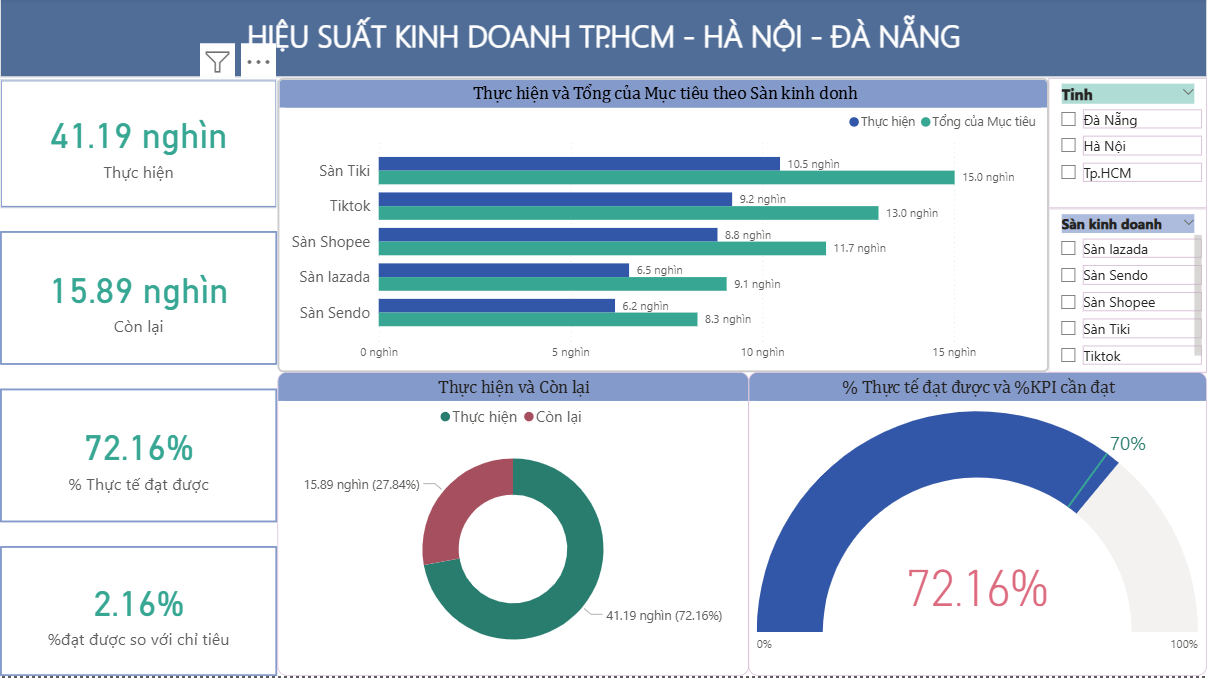

The dashboard page shown, as its layout file describes it:
{"tool":"powerbi","page":{"name":"Trang 2","canvas":[1280,720],"ordinal":1},"visuals":[{"type":"shape","box":[0,0,1280,85],"z":0},{"type":"textbox","box":[0,12.7,1280.4,62],"z":1000},{"type":"slicer","fields":{"Values":["Sàn đạt KPI.Sàn kinh donh"]},"box":[1112,224,168,174],"z":2000},{"type":"slicer","fields":{"Values":["Sàn đạt KPI.Tỉnh"]},"box":[1112,86,168,138],"z":3000},{"type":"card","fields":{"Values":["Sàn đạt KPI.Thực hiện"]},"box":[0,88,294,136],"z":4000},{"type":"card","fields":{"Values":["Sàn đạt KPI.Còn lại"]},"box":[0,248.7,294,142],"z":5000},{"type":"card","fields":{"Values":["Sàn đạt KPI.% Thực tế đạt được"]},"box":[0,415.3,294,142],"z":6000},{"type":"card","fields":{"Values":["Sàn đạt KPI.%đạt được so với chỉ tiêu"]},"box":[0,582,294,138],"z":7000},{"type":"clusteredBarChart","fields":{"Category":["Sàn đạt KPI.Sàn kinh donh"],"Y":["Sàn đạt KPI.Thực hiện","Sum(Sàn đạt KPI.Mục tiêu)"]},"box":[294,86,818,312],"z":8000},{"type":"donutChart","fields":{"Y":["Sàn đạt KPI.Thực hiện","Sàn đạt KPI.Còn lại"]},"box":[294,398,500,322],"z":9000},{"type":"gauge","fields":{"Y":["Sàn đạt KPI.% Thực tế đạt được"],"TargetValue":["Sàn đạt KPI.%KPI cần đạt"]},"box":[794,398,486,322],"z":10000}]}

Visuals, with their boxes in screenshot pixels (x1, y1, x2, y2), scaled from the page's 1280x720 canvas onto the 1207x678 screenshot:
shape: bbox=[0, 0, 1206, 80]
textbox: bbox=[0, 12, 1206, 70]
slicer - Sàn đạt KPI.Sàn kinh donh: bbox=[1049, 211, 1206, 375]
slicer - Sàn đạt KPI.Tỉnh: bbox=[1049, 81, 1206, 211]
card - Sàn đạt KPI.Thực hiện: bbox=[0, 83, 277, 211]
card - Sàn đạt KPI.Còn lại: bbox=[0, 234, 277, 368]
card - Sàn đạt KPI.% Thực tế đạt được: bbox=[0, 391, 277, 525]
card - Sàn đạt KPI.%đạt được so với chỉ tiêu: bbox=[0, 548, 277, 677]
clusteredBarChart - Sàn đạt KPI.Sàn kinh donh x Sàn đạt KPI.Thực hiện: bbox=[277, 81, 1049, 375]
donutChart - Sàn đạt KPI.Thực hiện x Sàn đạt KPI.Còn lại: bbox=[277, 375, 749, 677]
gauge - Sàn đạt KPI.% Thực tế đạt được x Sàn đạt KPI.%KPI cần đạt: bbox=[749, 375, 1206, 677]
